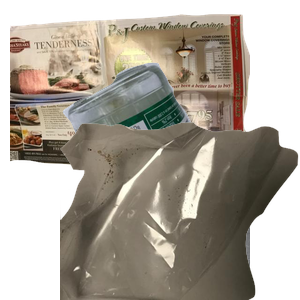glass: (60, 60, 300, 240)
paper: (10, 11, 250, 180)
plastic: (23, 161, 263, 300)
trash: (60, 120, 300, 300)
